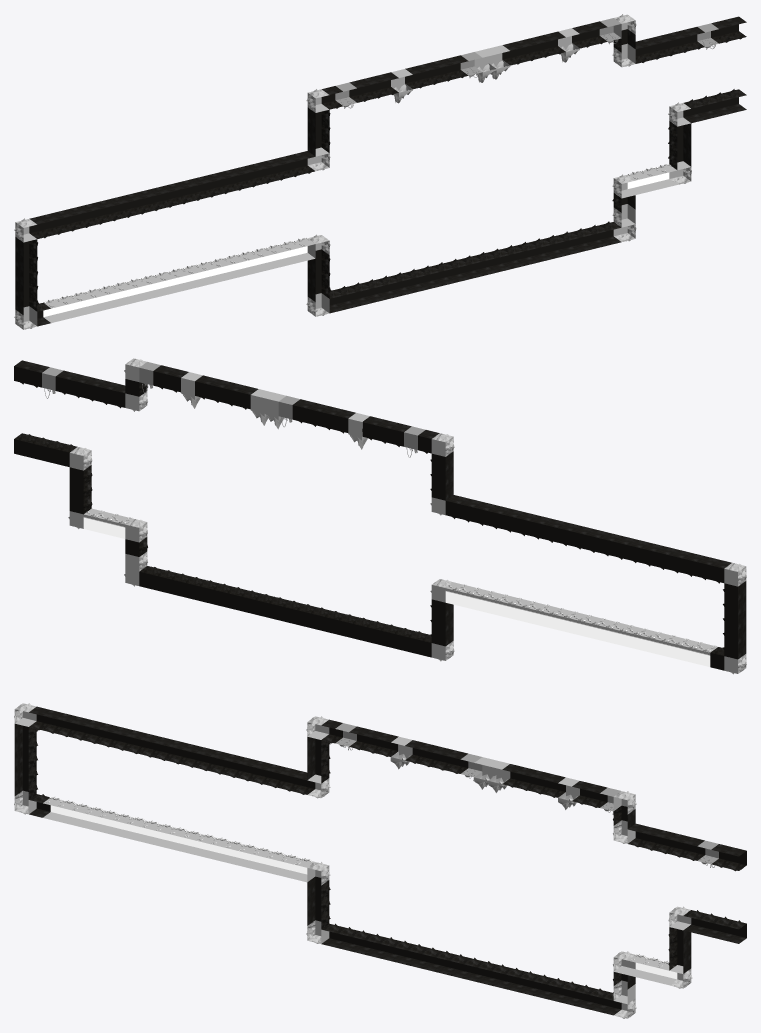
The model's file is Cubi_Room11.fbx.
The picture shows the model from 3 angles, top to bottom: view 1: azimuth 30°, elevation 25°; view 2: azimuth 150°, elevation 25°; view 3: azimuth 330°, elevation 25°; orthographic projection.
Parts seen in each view (by area): view 1: Cubes_Room11; view 2: Cubes_Room11; view 3: Cubes_Room11.
Boxes of the visible parts, x1,y1,x2,y2 form: Cubes_Room11: [14, 14, 746, 329]; Cubes_Room11: [14, 358, 746, 674]; Cubes_Room11: [14, 703, 746, 1018].
Size of the model in its own units: 5222 by 1545 by 100.
